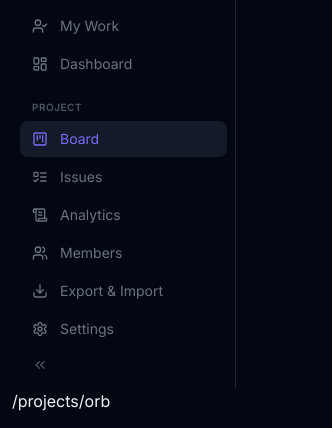
Test: Sidebar › collapses to icons only and persists the state to localStorage
This screenshot has width=332, height=428.
Expected: the text "My Work" is shown, [60, 16, 119, 36]
Step 1. Click the button named "Collapse sidebar" → (124, 365), box [20, 349, 227, 381]
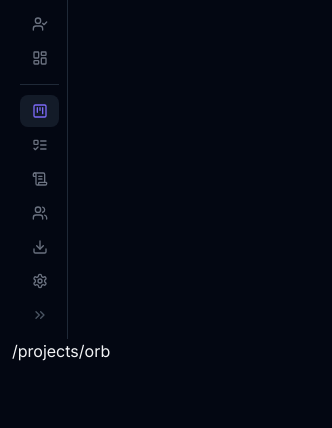
Expected: the button named "Issues" is shown, [20, 129, 59, 161]
Now the text "My Work" is gone
Now the text "Issues" is gone
Step 2. Click the button named "Expand sidebar" → (40, 315), box [20, 299, 59, 331]
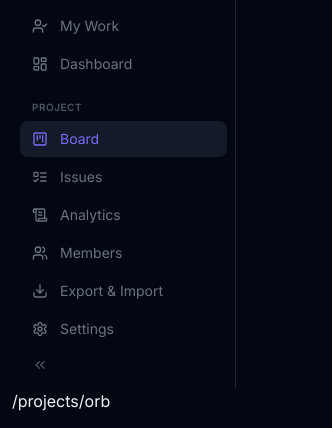
Now the text "My Work" is shown, box [60, 16, 119, 36]
